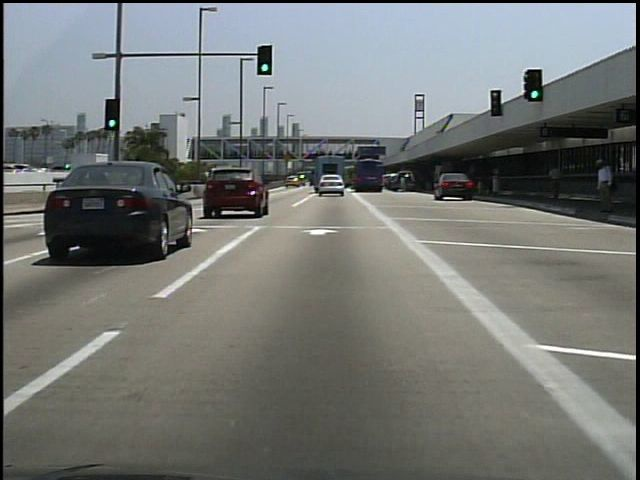person: (590, 155, 615, 220), (542, 158, 563, 206)
